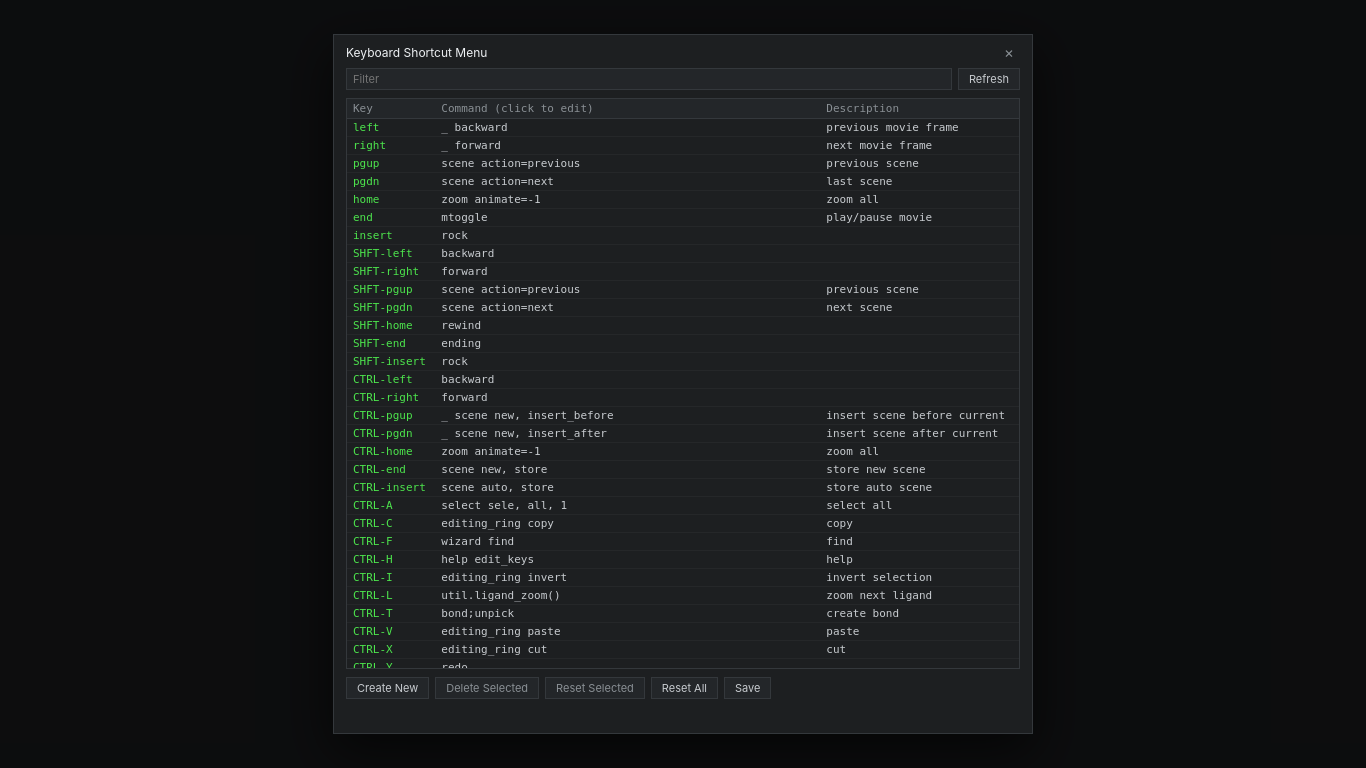
it: row 455 — the filterable three-column table › makes ONLY the Command cell editable — the Key and Description cells are not
Double-click the cell "CTRL-A": (391, 506) [347,496,435,514]
Double-click the cell "select all": (920, 506) [820,496,1019,514]
Double-click the cell "select sele, all, 1": (628, 506) [435,496,820,514]
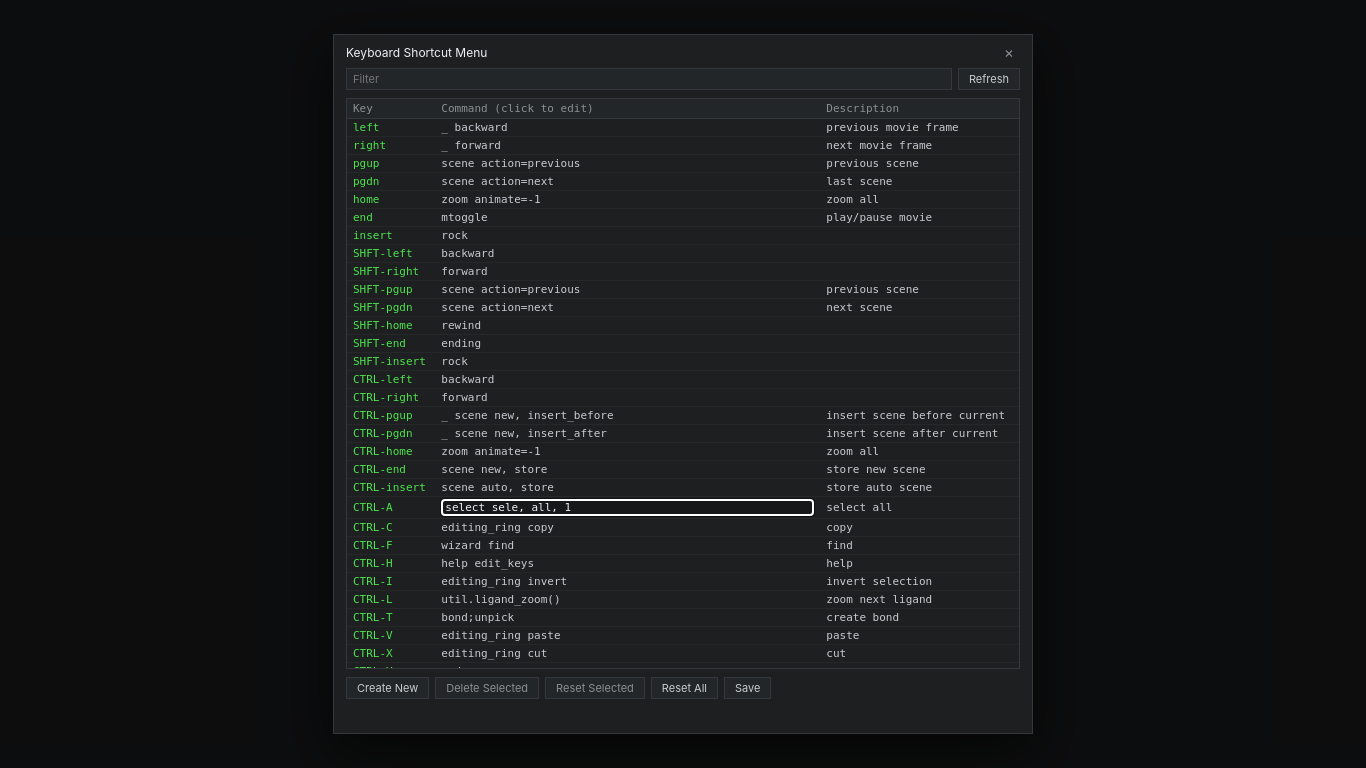
Expected: the 2nd field is shown, [441,499,814,516]
